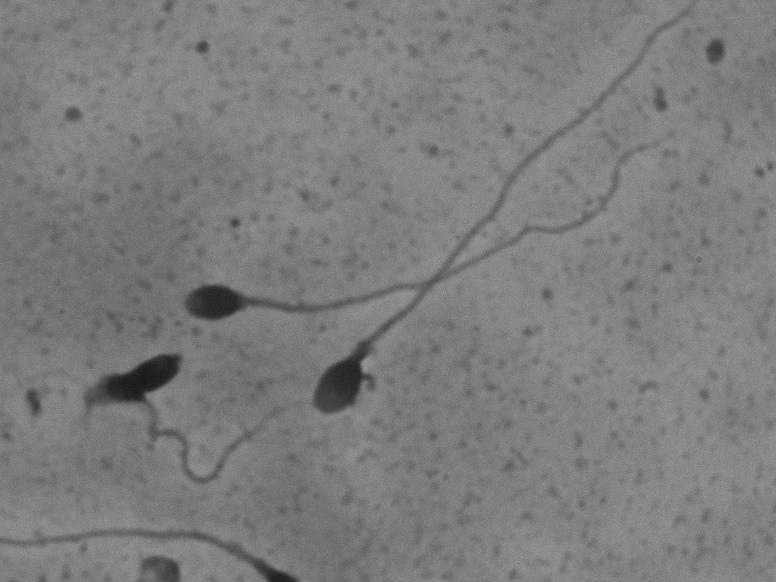Abnormal: (51, 343, 279, 493)
Normal: (297, 11, 689, 442), (166, 128, 688, 328)
